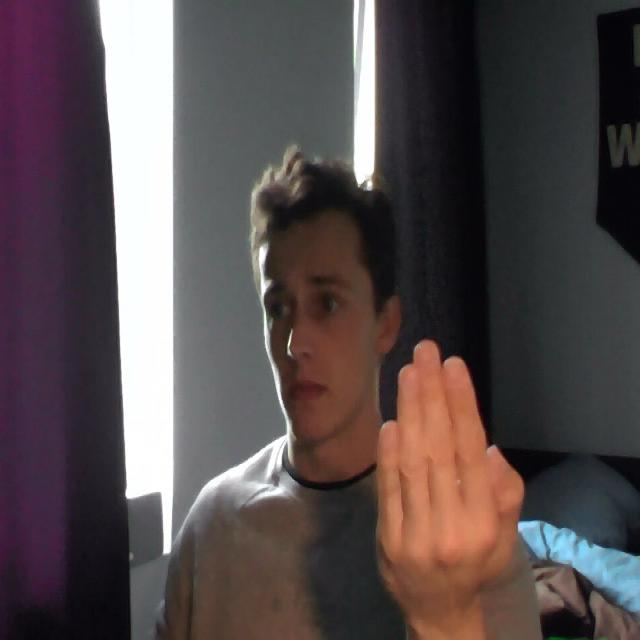forward: (355, 319, 539, 601)
